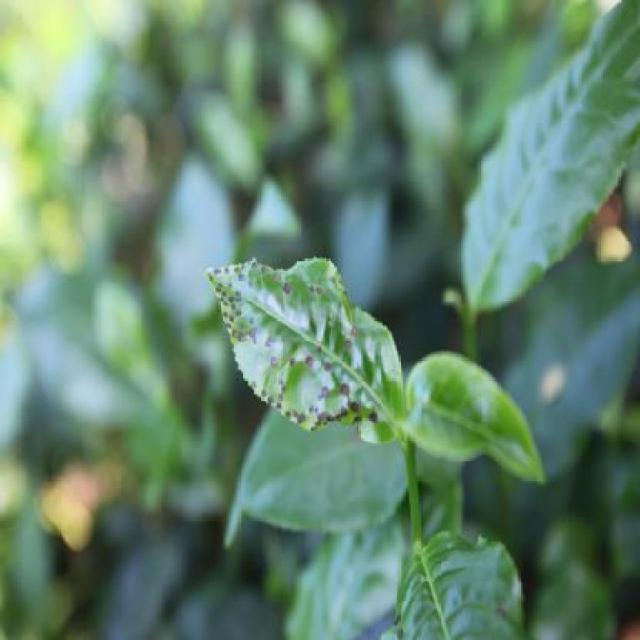Tea Mosquito bug infested leaf: (197, 237, 414, 441)
